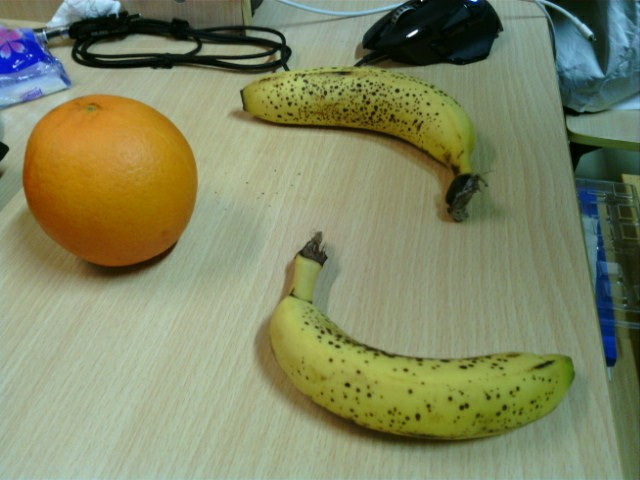normal_banana: (271, 234, 575, 438), (239, 64, 484, 224)
normal_orange: (24, 94, 198, 266)
